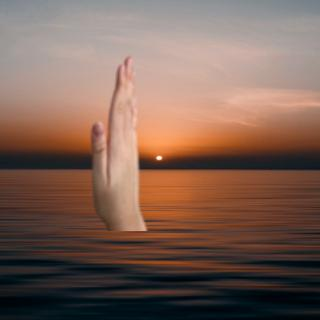Right: (87, 49, 145, 226)
